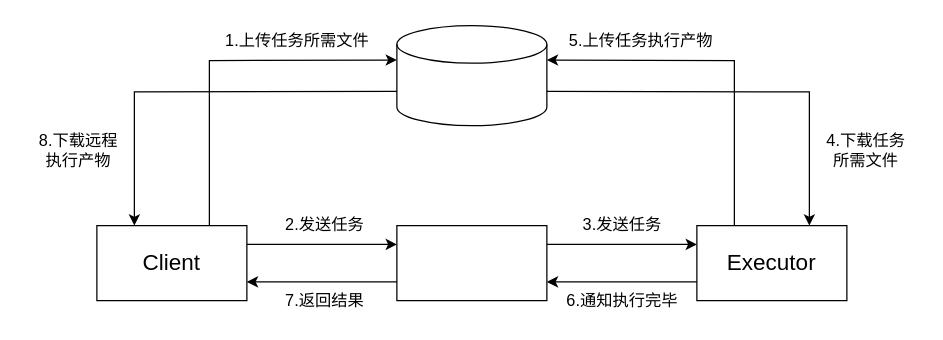
This 943x340 diagram has some shape labels left out. The centre of each missing label's shape, as x and y in pixels:
"Server" goes at point (471, 262).
"中央仓库" goes at point (471, 75).
